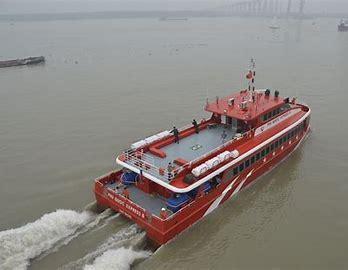Ship: (94, 83, 317, 249)
